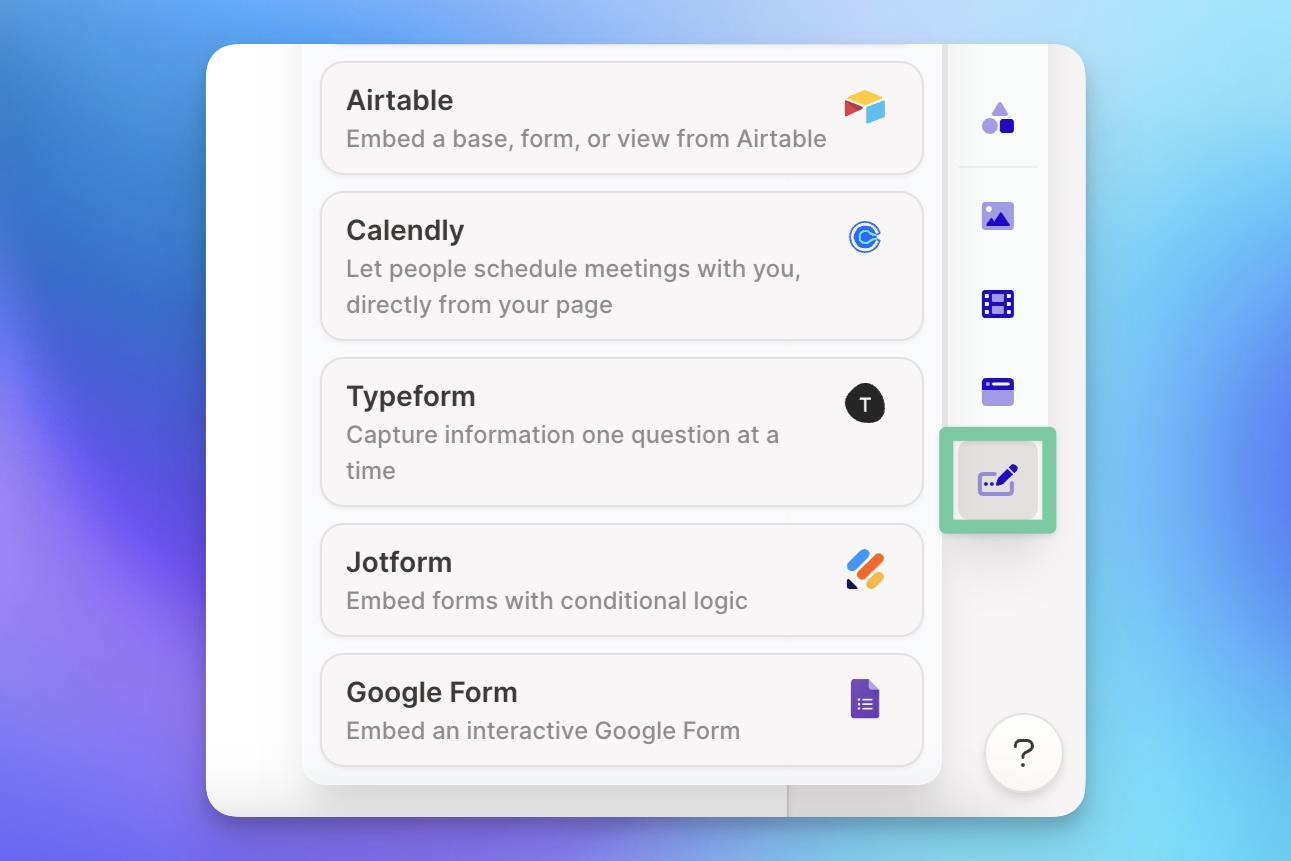button: (320, 355, 924, 510), (319, 192, 922, 342), (319, 653, 923, 773), (320, 523, 927, 640), (323, 61, 927, 178)
icon: (999, 728, 1050, 781), (977, 91, 1024, 145), (973, 283, 1027, 330), (978, 368, 1025, 422), (972, 458, 1027, 500), (982, 193, 1022, 240)
